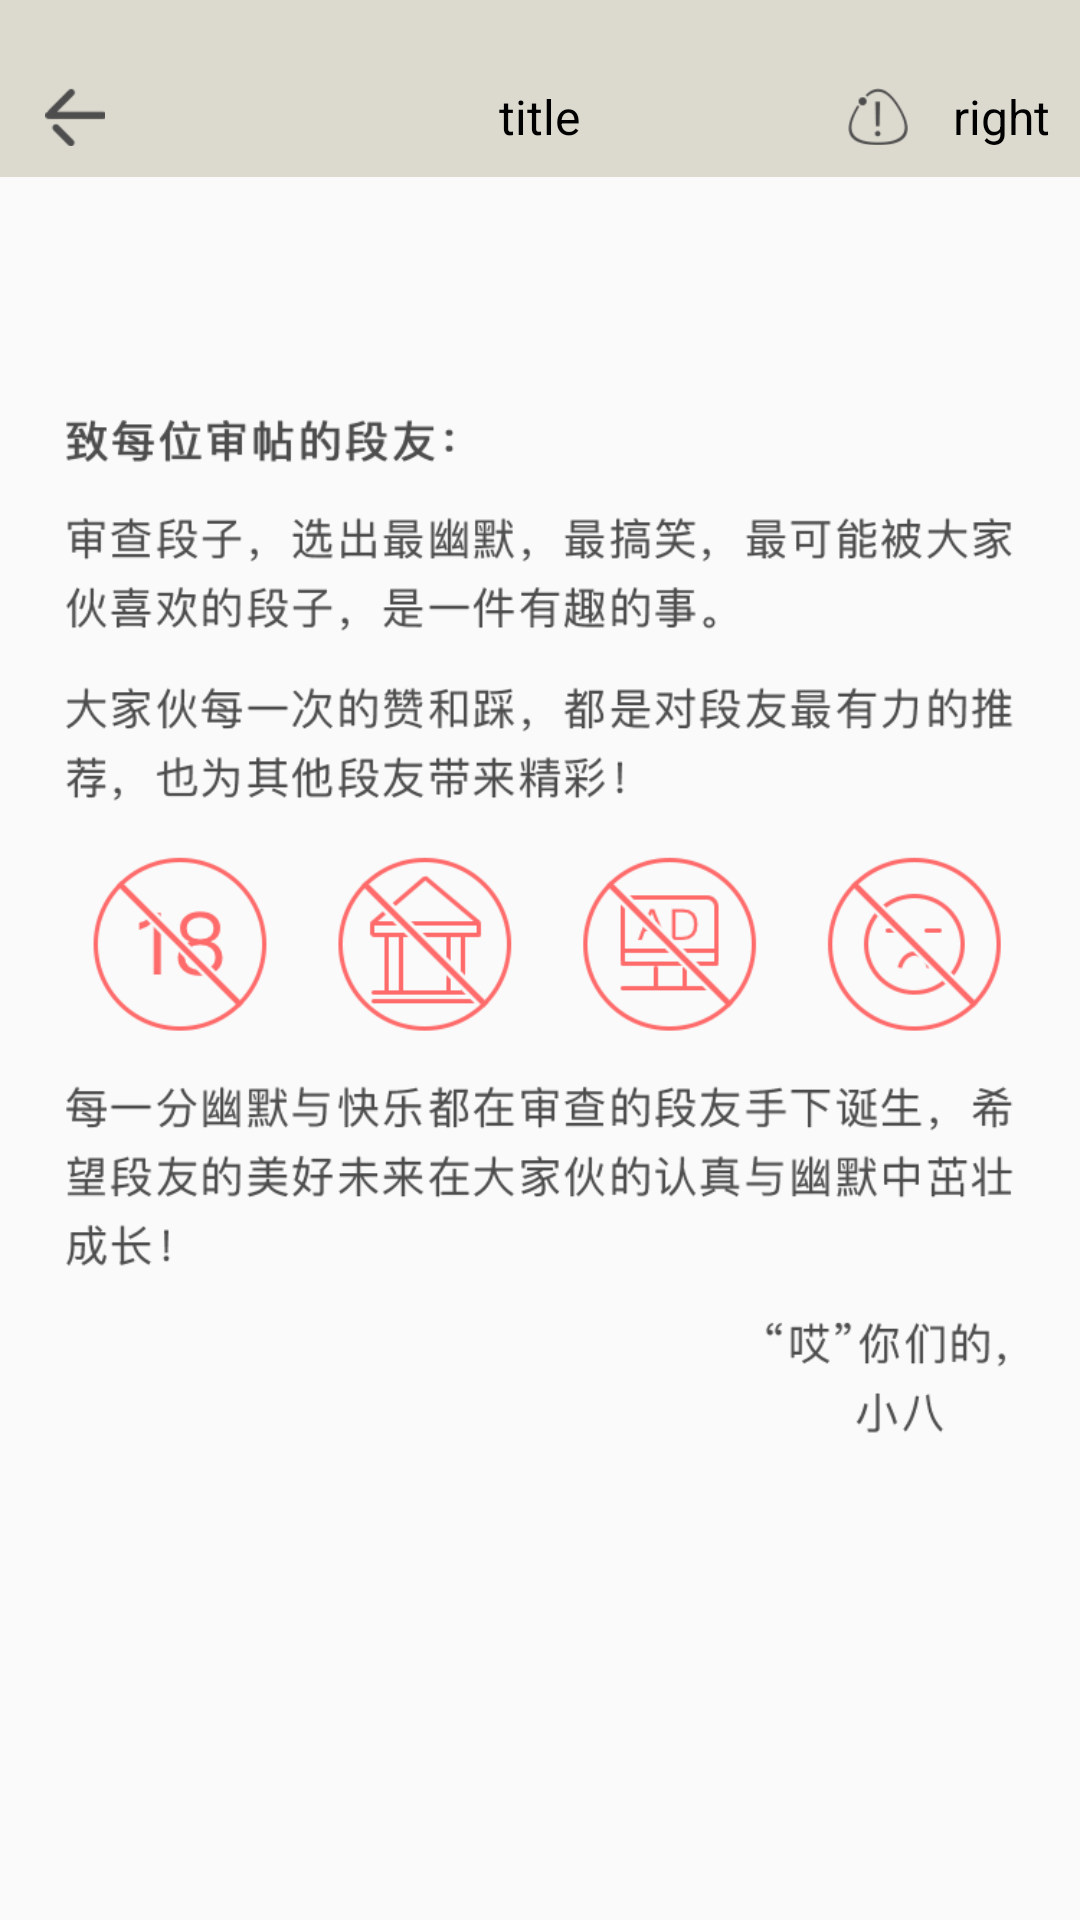

Where icons sit on this 1080x1920 app screen, as (x1, y1, x2, y2):
back: (45, 89, 105, 146)
